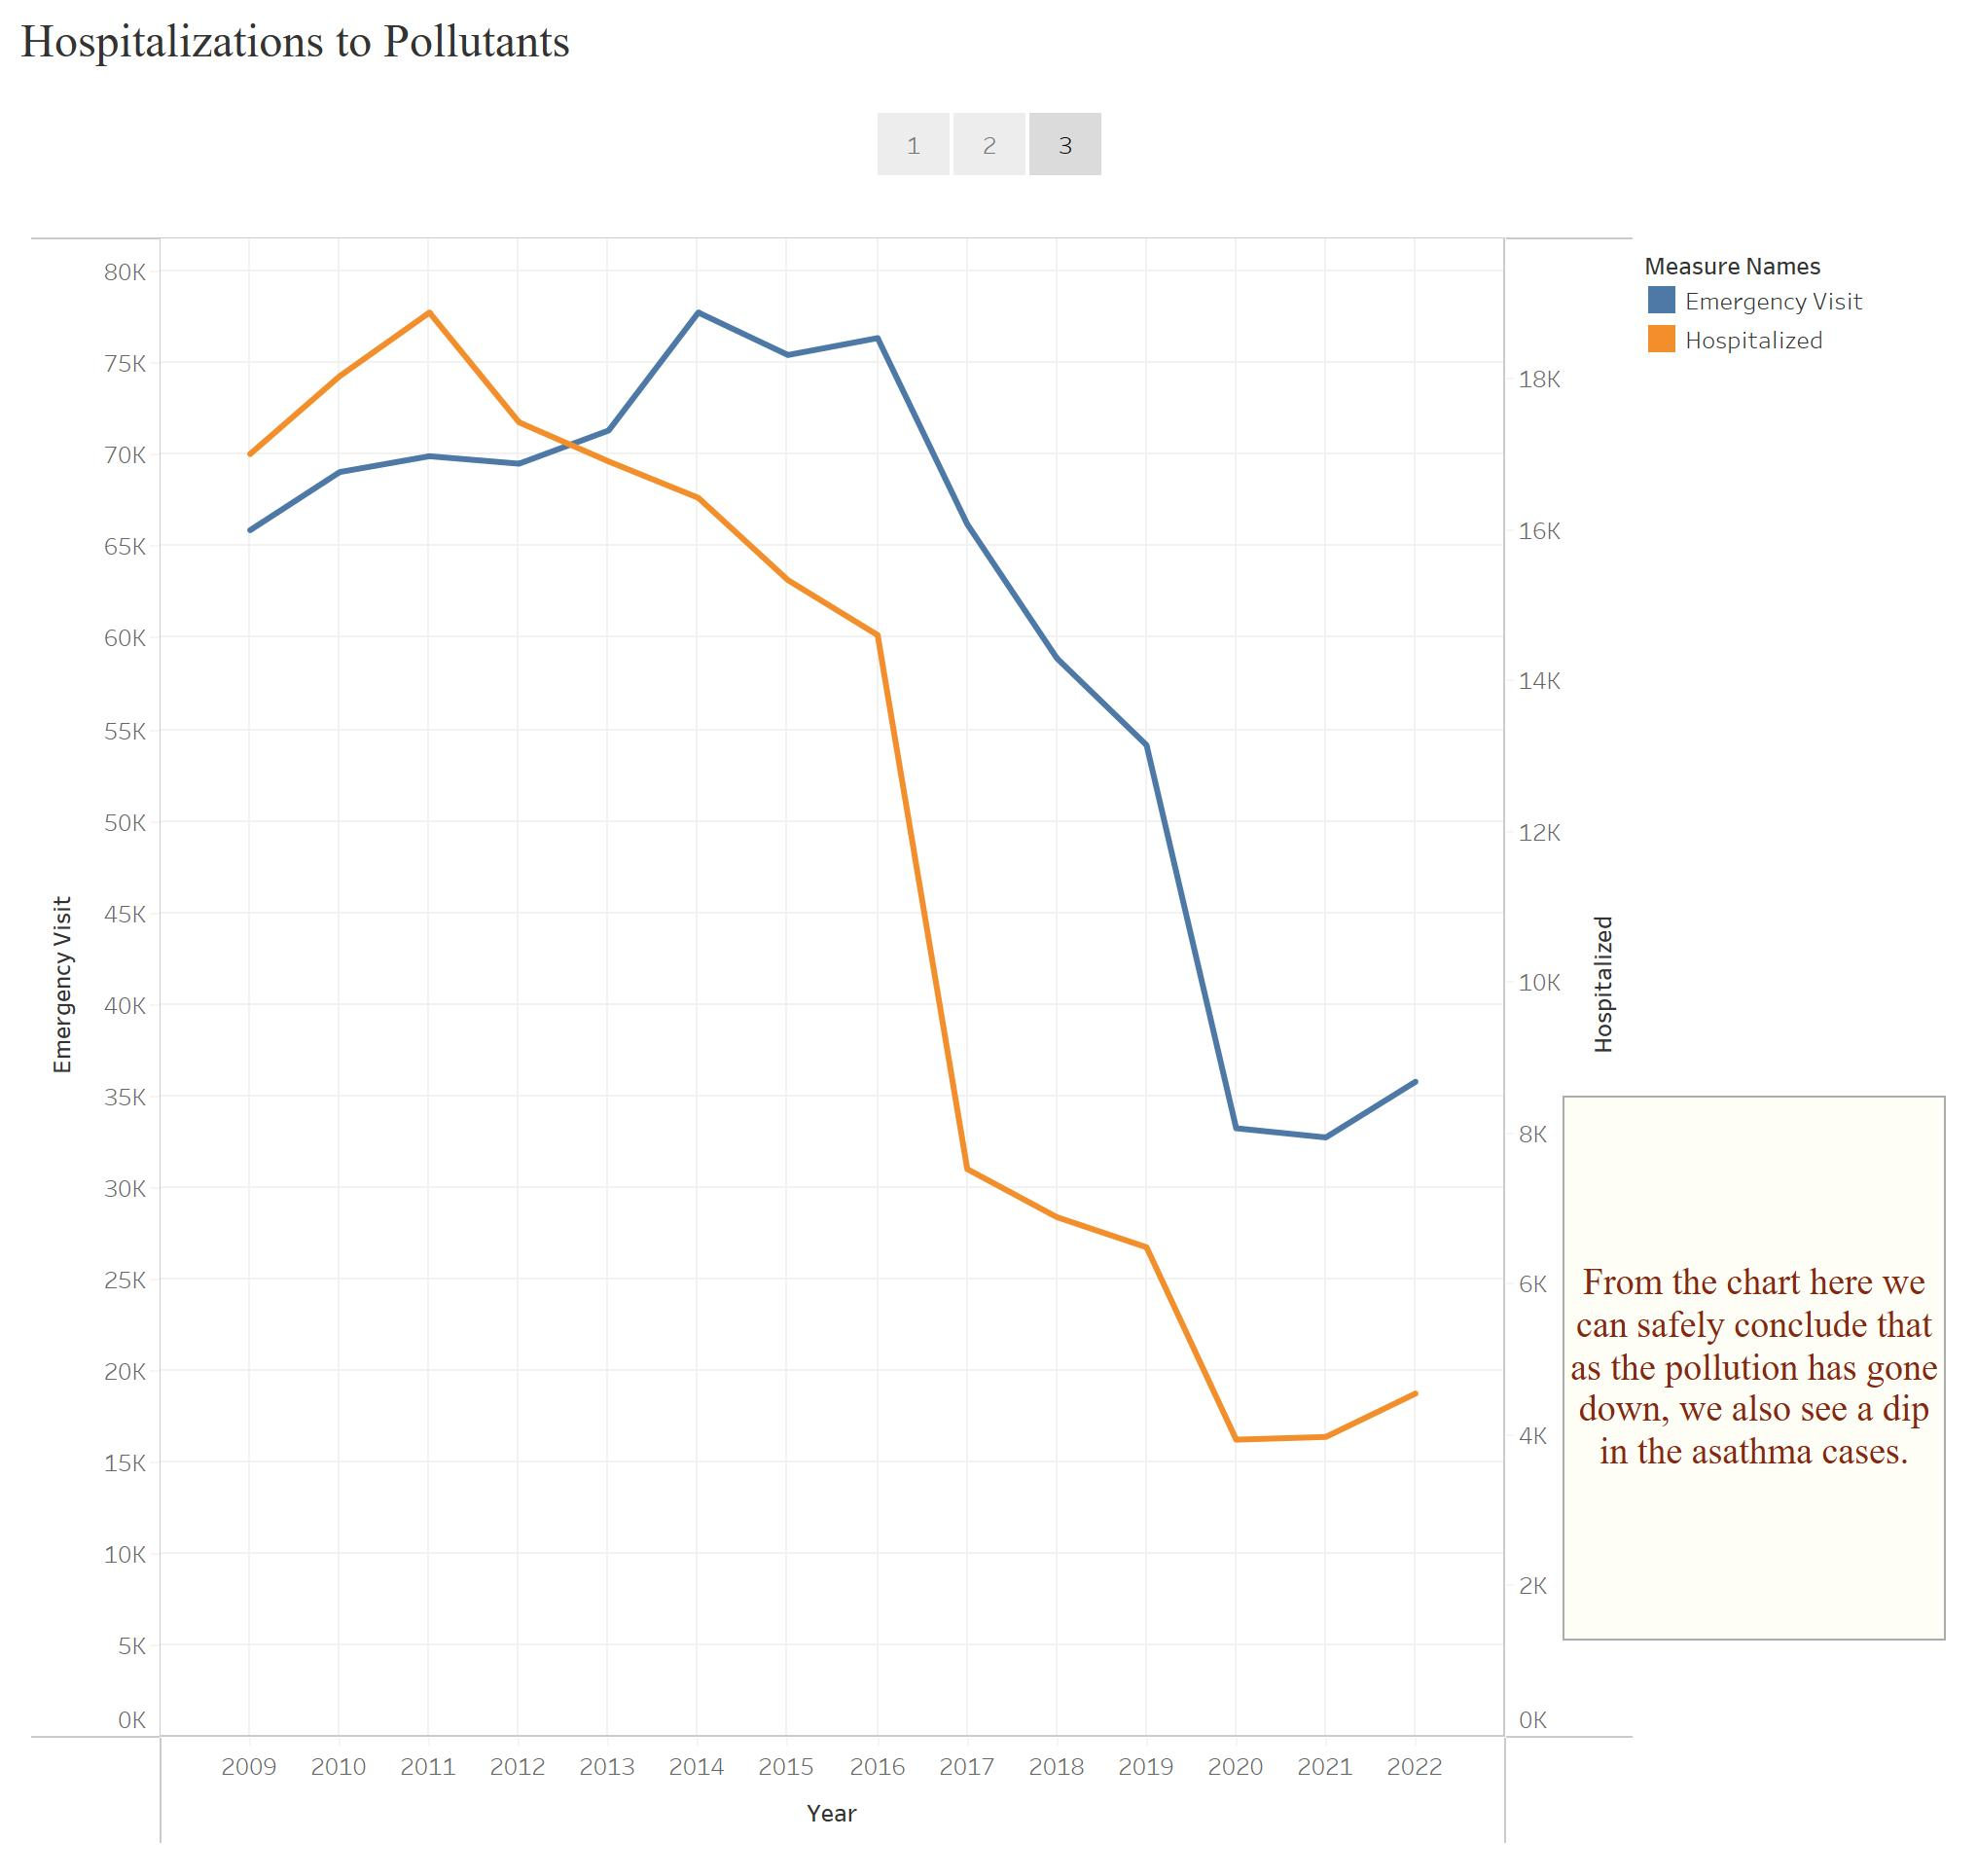

This screenshot's page, from the dashboard's own definition file:
{"tool":"tableau","page":{"name":"Dashboard 3","canvas":[1000,800],"ordinal":2},"visuals":[{"type":"currpage","title":"Sheet 7","box":[832,8,160,110]},{"type":"worksheet","title":"Sheet 7","mark":"Automatic","box":[8,70,612,404]},{"type":"legend","title":"Sheet 7","param":"[federated.1dj4w950e07gcg116i2i306ti1na].[sum:NO Mean ppb:qk]","box":[455,124,140,76]},{"type":"worksheet","title":"Sheet 8","mark":"Automatic","box":[491,211,487,336]},{"type":"legend","title":"Sheet 8","param":"[federated.1dj4w950e07gcg116i2i306ti1na].[sum:PH25 Mean mcg/m3:qk]","box":[852,296,140,76]},{"type":"legend","title":"Sheet 9","param":"[federated.1dj4w950e07gcg116i2i306ti1na].[sum:BLACK CARBON Mean absorbance units","box":[400,619,140,76]}]}

Visuals, with their boxes on the page's 1000x800 design canvas (x1, y1, x2, y2). These are canvas units, not pixel positions in the 1977x1876 screenshot, which may show the page scaled, cropped or inside an application window:
"Sheet 7" currpage: 832:8:992:118
"Sheet 7" worksheet: 8:70:620:474
"Sheet 7" legend: 455:124:595:200
"Sheet 8" worksheet: 491:211:978:547
"Sheet 8" legend: 852:296:992:372
"Sheet 9" legend: 400:619:540:695
